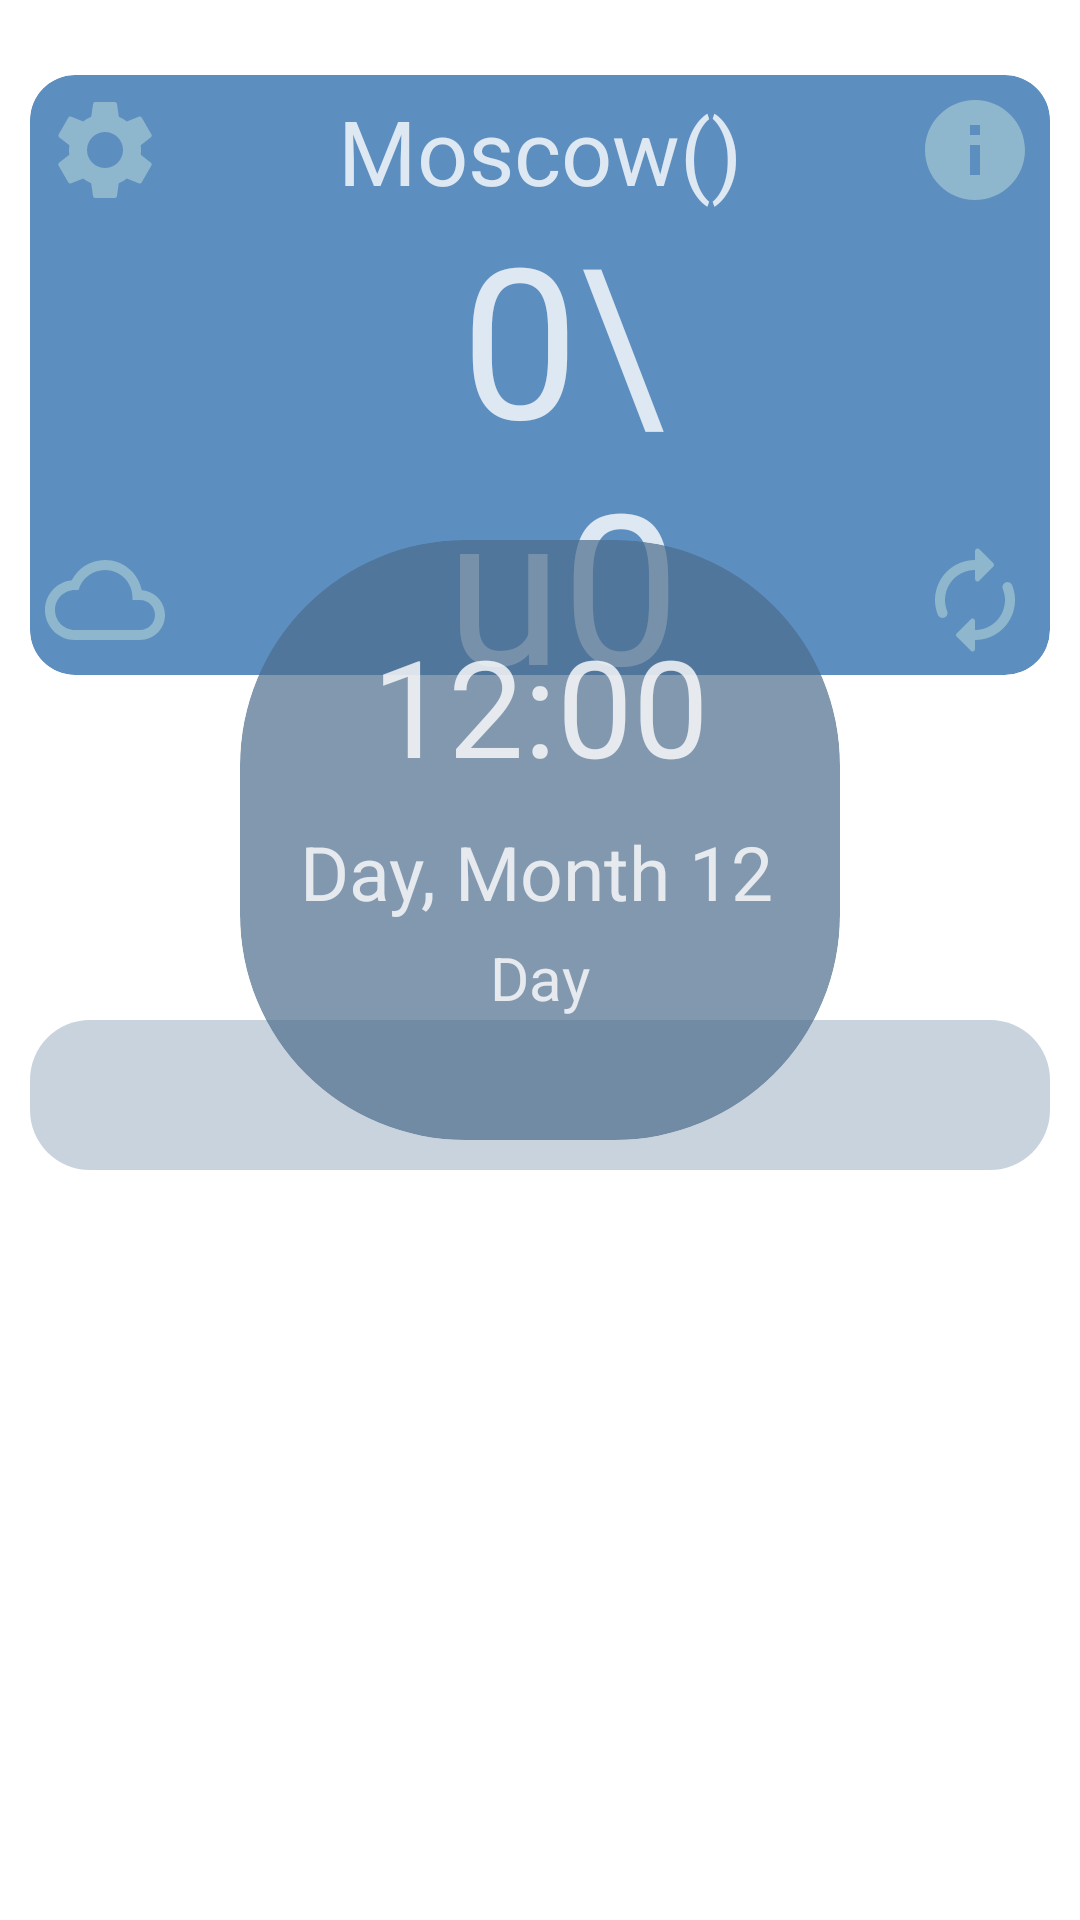

Where to tap for icons on this 1080px x 1920px app screen, as point (x, y):
autorenew: point (975, 600)
info: point (975, 150)
settings: point (105, 150)
weather: point (105, 600)
